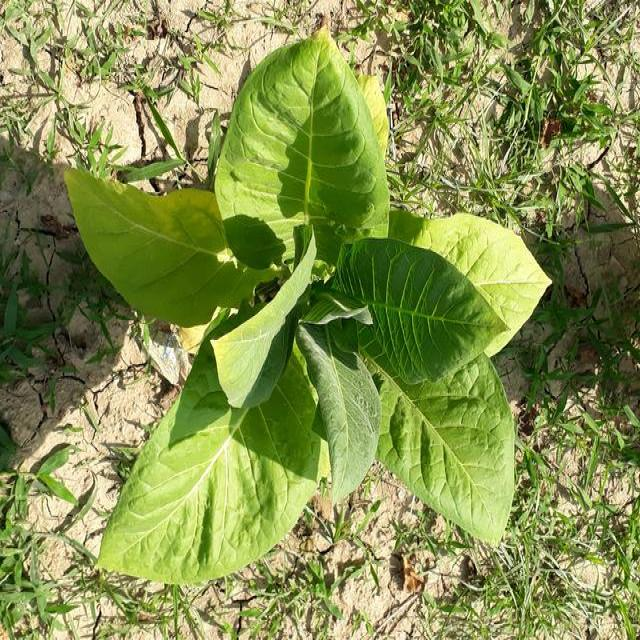crop: (62, 47, 539, 584)
